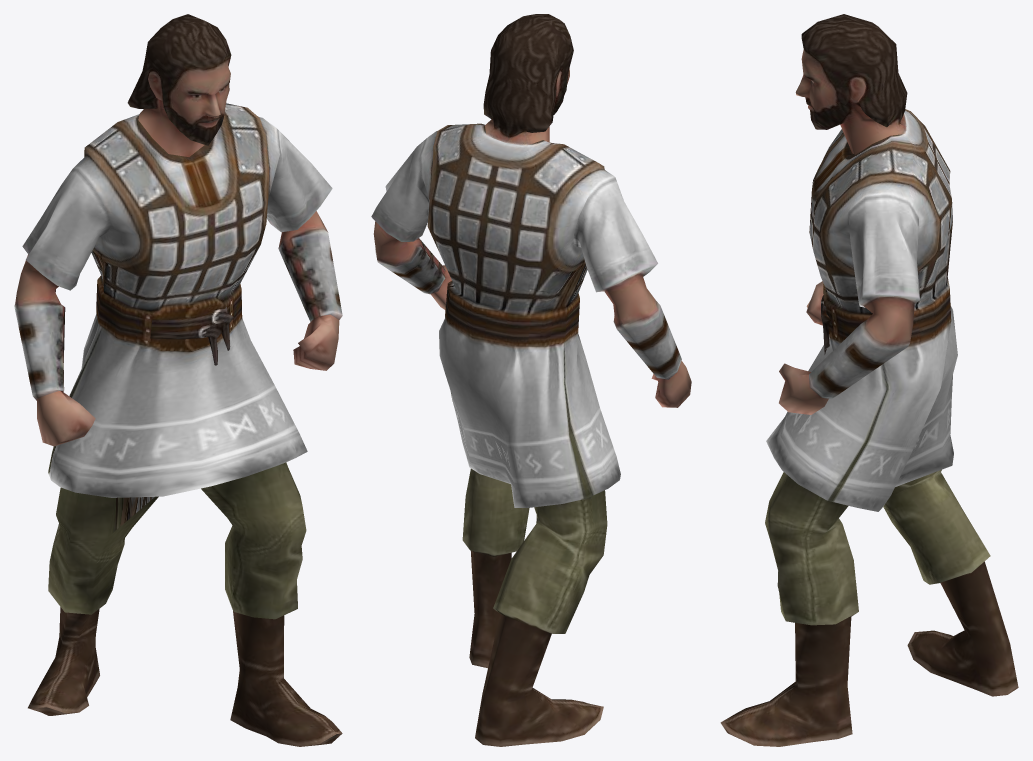
File: body-mediuminfantry.glb
The picture shows the model from 3 angles, left to right: view 1: azimuth 30°, elevation 25°; view 2: azimuth 150°, elevation 25°; view 3: azimuth 270°, elevation 25°; orthographic projection. The views are drawn at different scales.
Size of the model in its own units: 0.9128 by 2 by 0.7893.
Materials: 1 (1 with a texture image).
